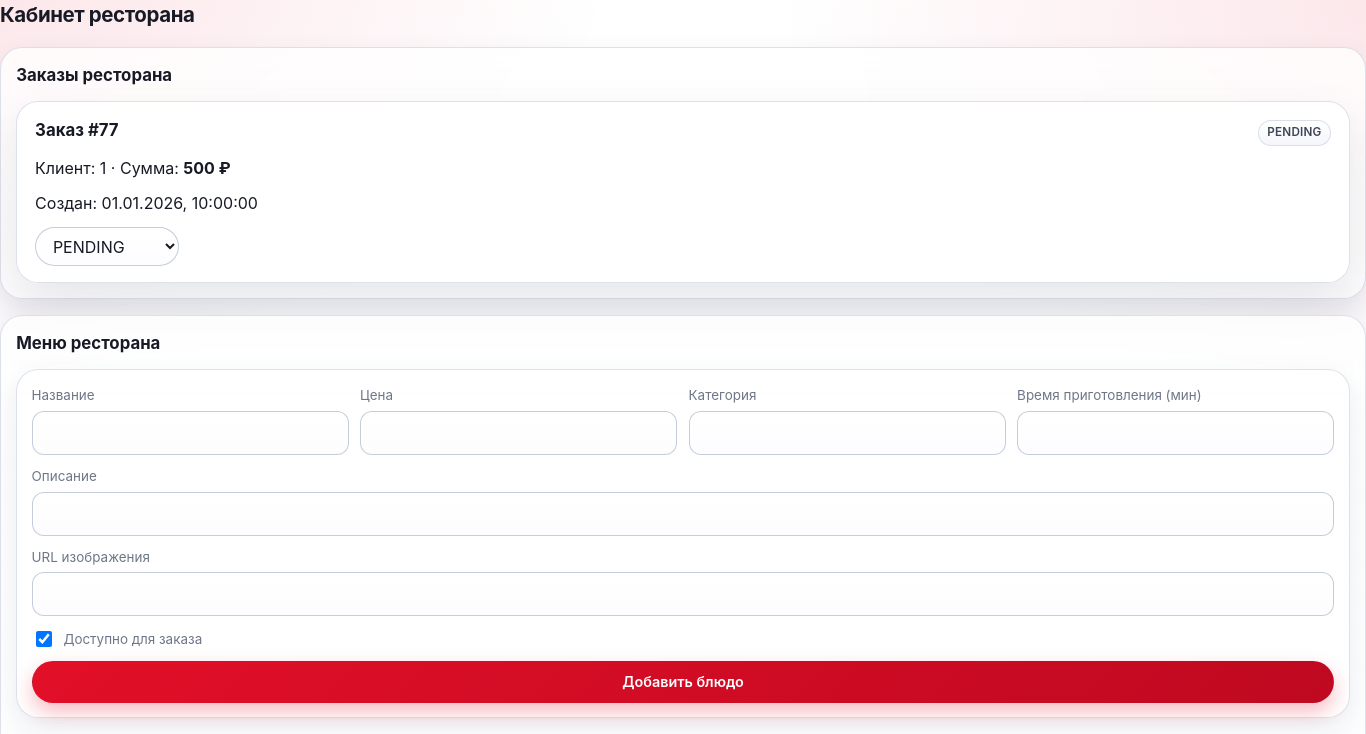
Test case: RestaurantDashboardPage › loads orders and updates order status with ui refresh
Expected: the heading "Заказ #77" is shown, [35,118,119,143]
Select "READY" in the dropdown at (107, 247), box [35,227,179,266]
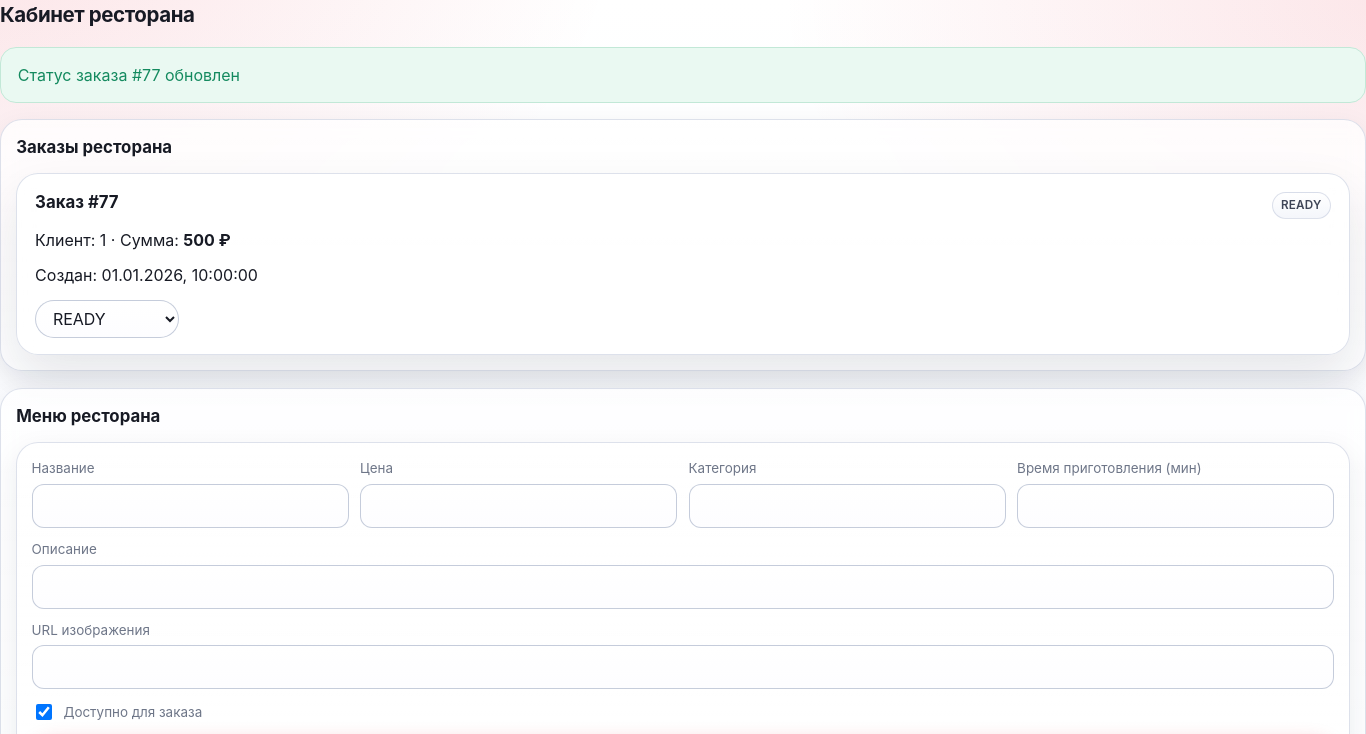
Expected: the text "Статус заказа #77 обновлен" is shown, [18,65,240,85]
Expected: the text "READY" is shown, [1272,192,1331,219]
